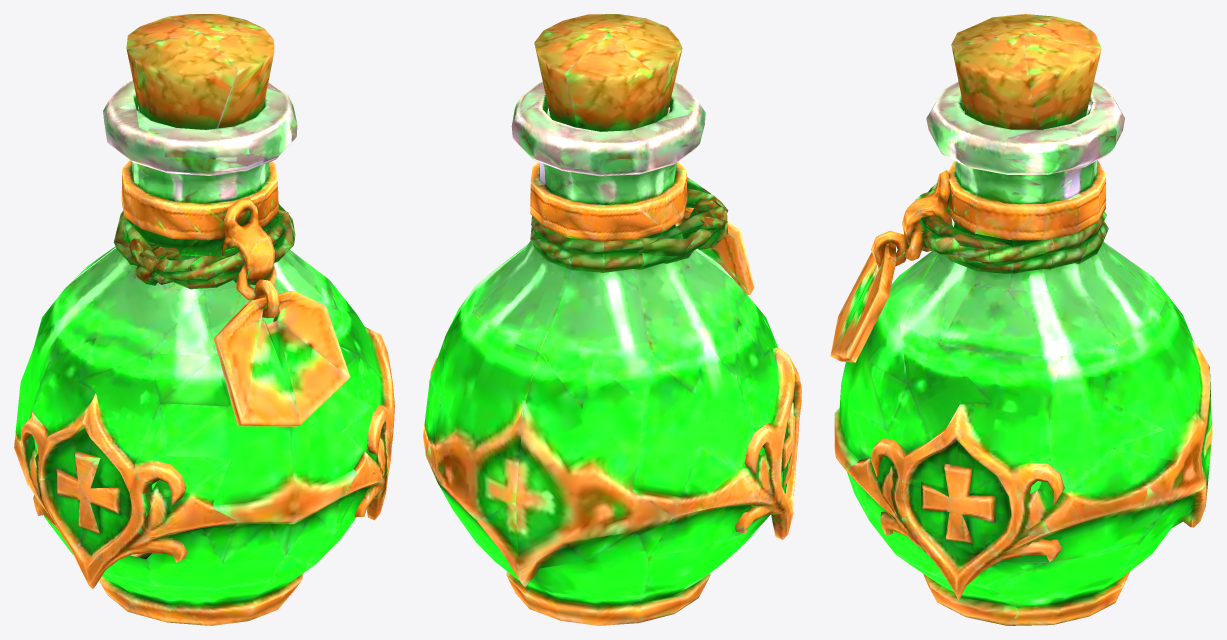
File: leichtfuss_trank.glb
3 renders of one model, left to right at view 1: azimuth 30°, elevation 25°; view 2: azimuth 150°, elevation 25°; view 3: azimuth 270°, elevation 25°, orthographic.
Visible parts, largest first — view 1: heiltrank; view 2: heiltrank; view 3: heiltrank.
Boxes of the visible parts, bbox=[...] form: heiltrank: bbox=[14, 14, 394, 625]; heiltrank: bbox=[423, 14, 801, 625]; heiltrank: bbox=[830, 14, 1212, 625].
Size of the model in its own units: 0.1893 by 0.3 by 0.1881.
1 material, 1 textured.
